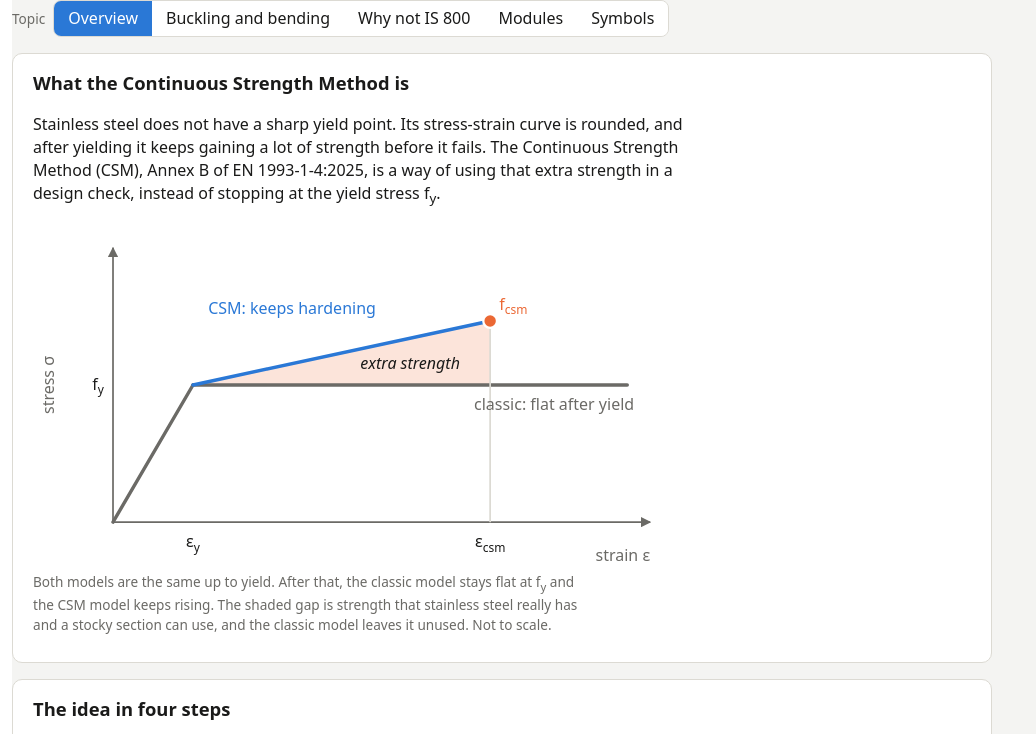
Help › has a compression module with its sketch in the Modules topic
This screenshot has width=1036, height=734.
Click the radio button labelled "Modules". click: (531, 19)
box: [484,1,577,36]
(page scrolled)
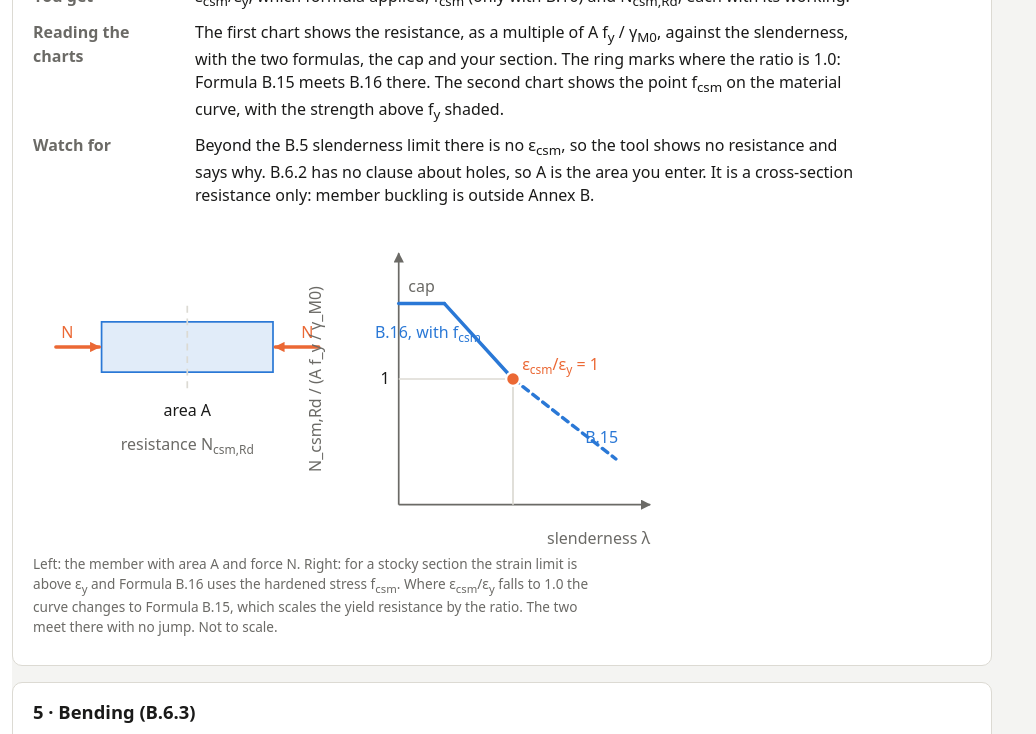
Expected: the picture named "A member in compression and the compression resistance" is shown, [33,219,673,550]
